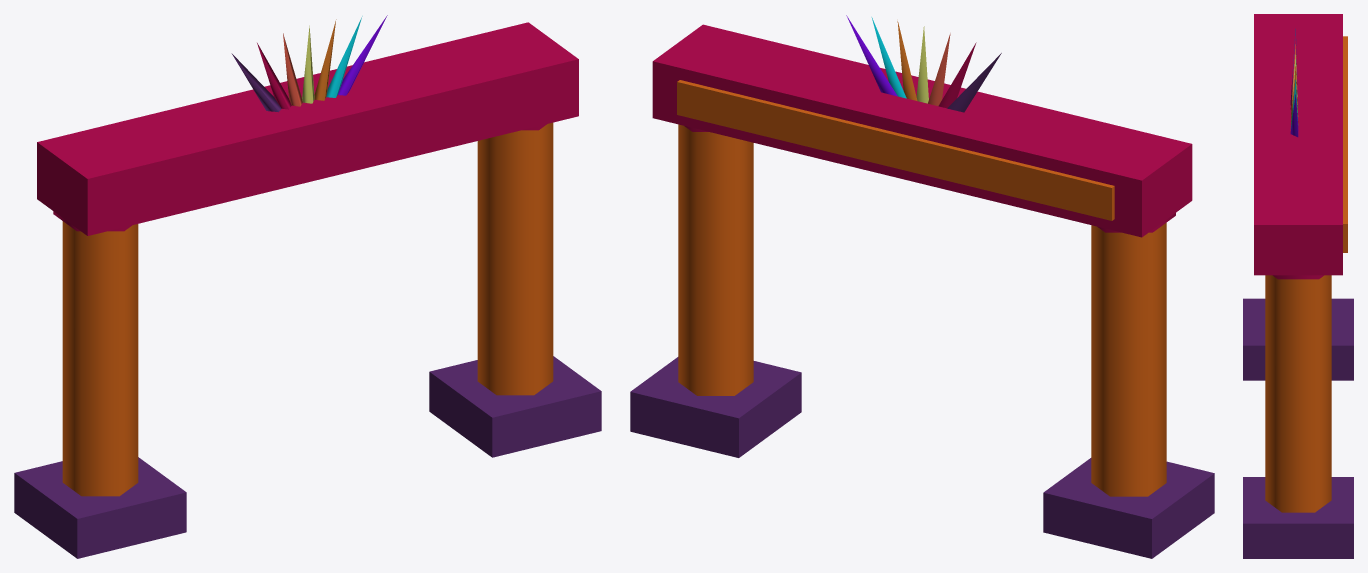
Rendered from liberty-arch.glb.
The picture shows the model from 3 angles, left to right: view 1: azimuth 30°, elevation 25°; view 2: azimuth 150°, elevation 25°; view 3: azimuth 270°, elevation 25°; orthographic projection. The views are drawn at different scales.
Bounding box in the file's own units: 9.6 × 7.85 × 2.
